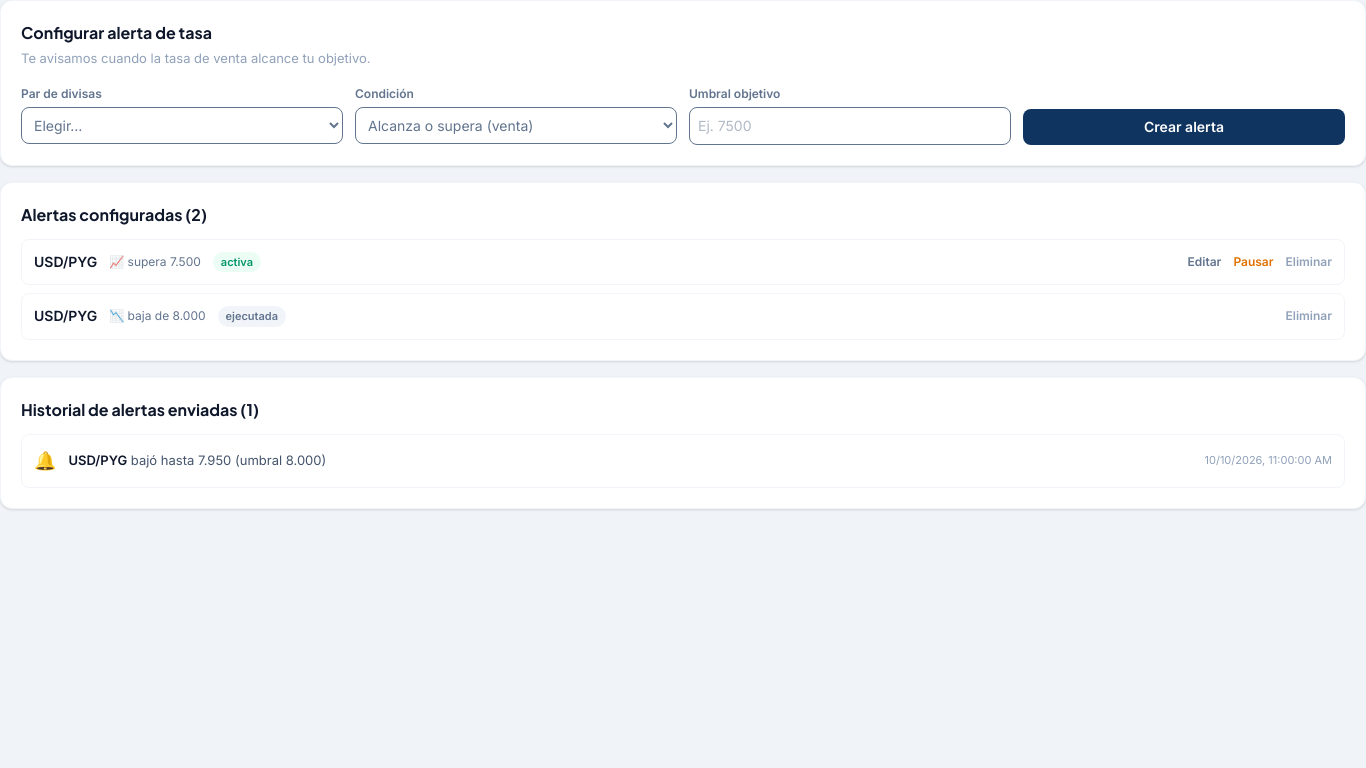
Test case: AlertasTasas (panel real) › valida el umbral antes de crear
Expected: the heading "Configurar alerta de tasa" is shown, left=21, top=22, right=212, bottom=43
Select "USD/PYG — Dólar" in the dropdown labelled "Par de divisas" at (182, 125), box left=21, top=106, right=343, bottom=144
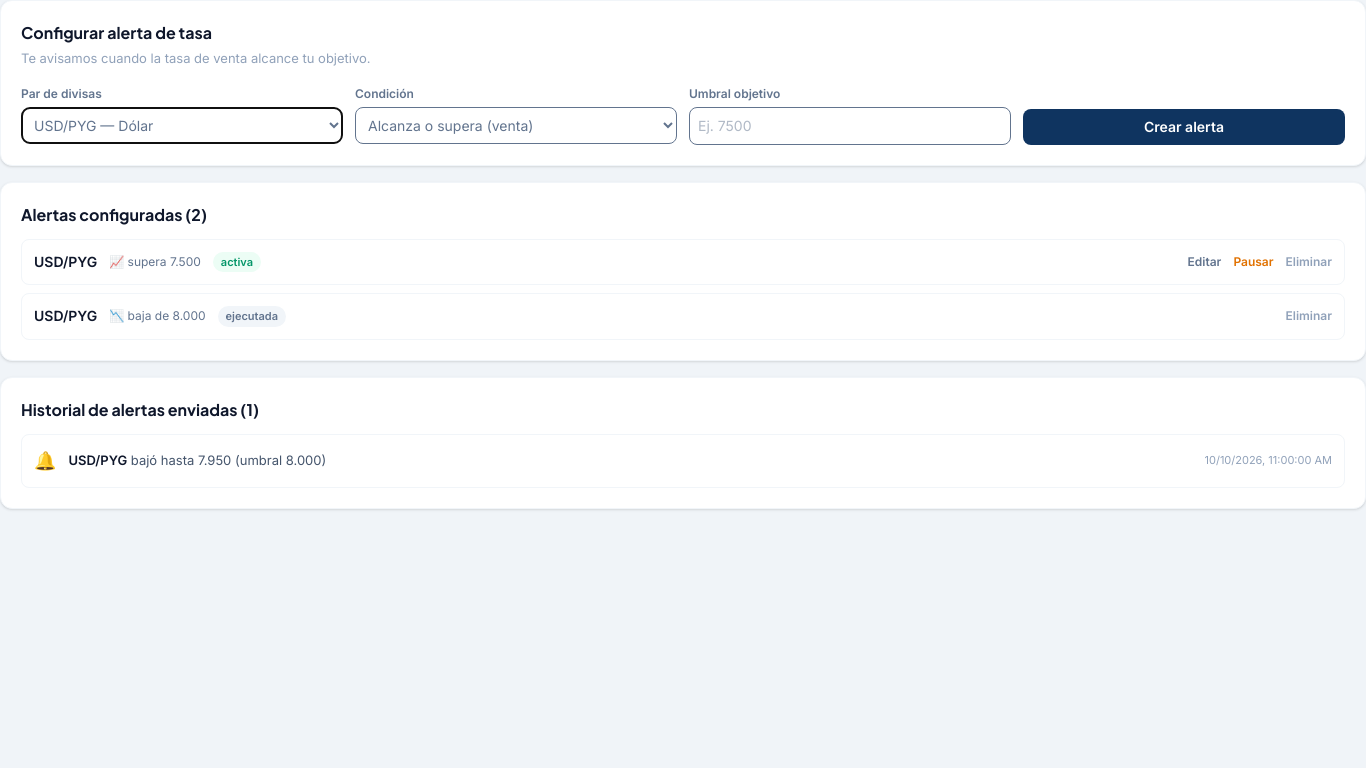
Click the button "Crear alerta" at (1184, 126), box left=1023, top=108, right=1345, bottom=144
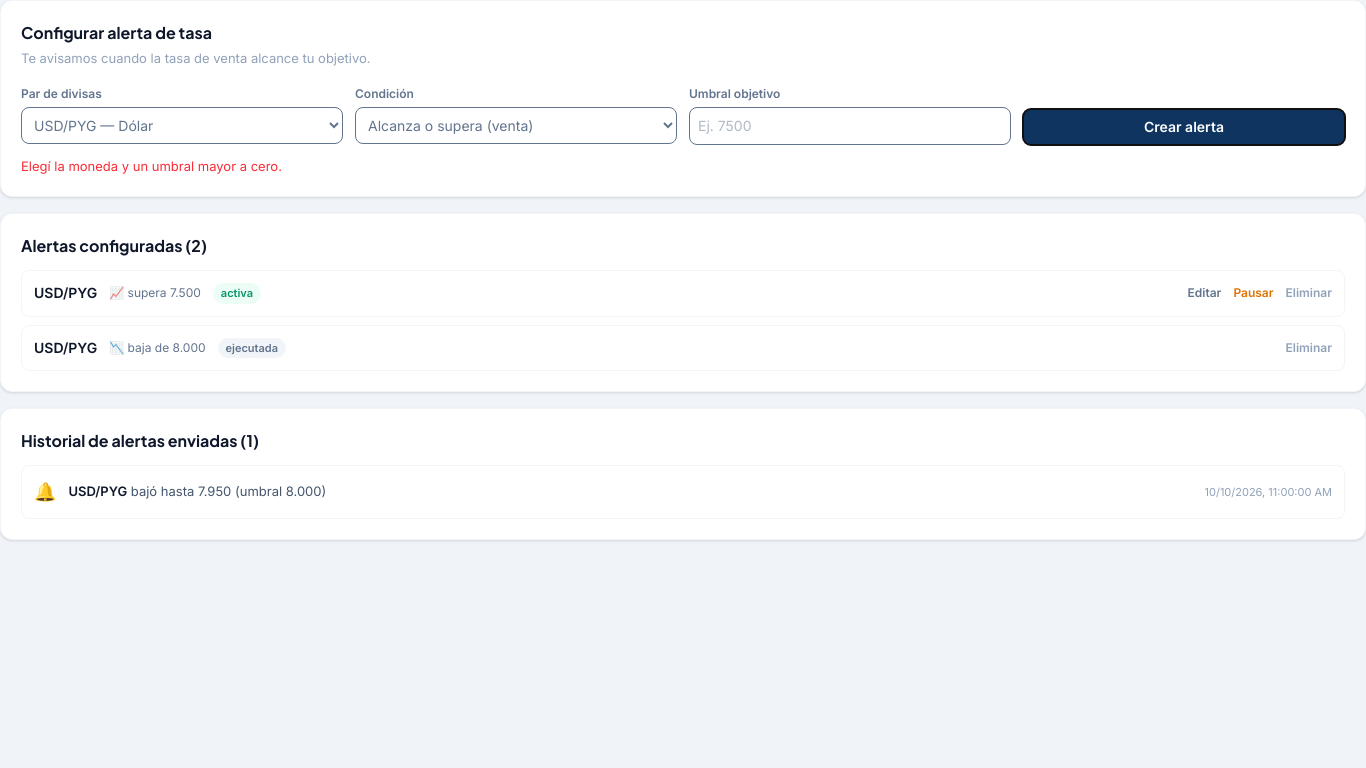
Expected: the text "Elegí la moneda y un umbral mayor a cero." is shown, left=21, top=158, right=282, bottom=174
